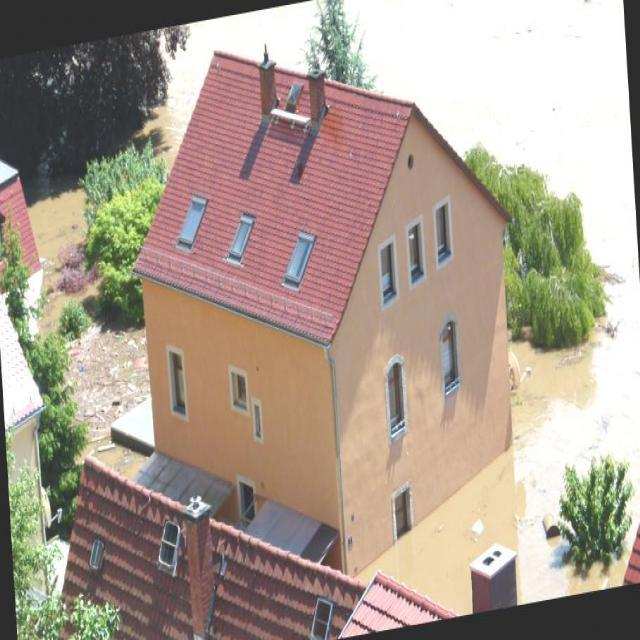flood: (478, 0, 640, 606)
